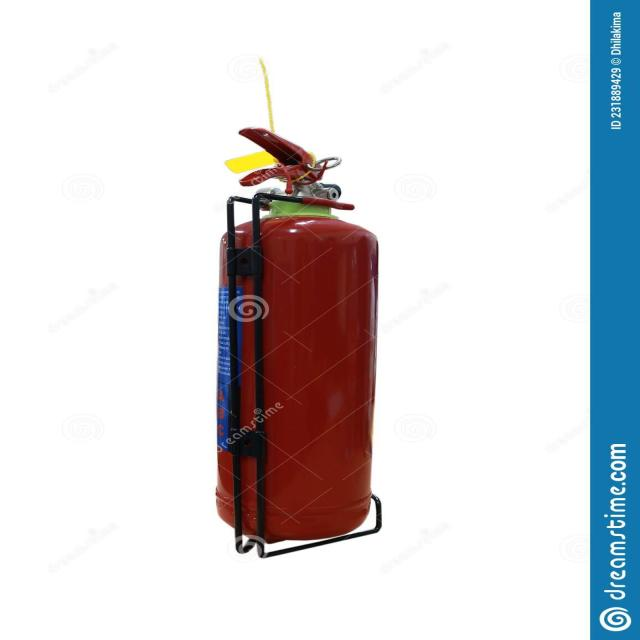fire_extinguisher: (204, 124, 386, 545)
